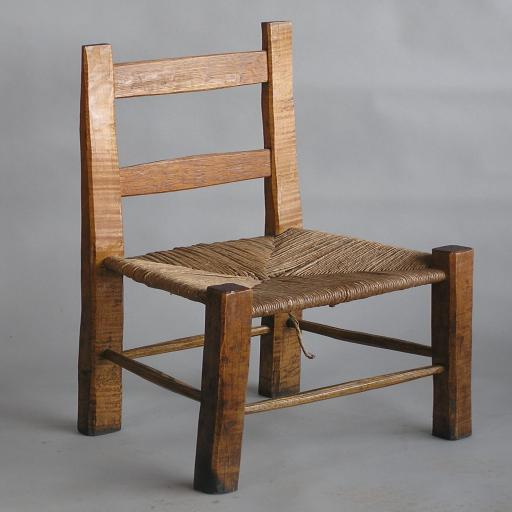chair: (77, 21, 474, 494)
